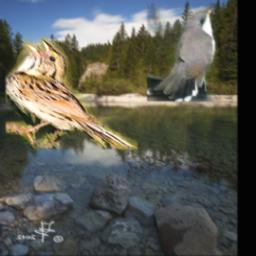Cuckoo: (146, 3, 217, 101)
Sparrow: (5, 39, 137, 150)
